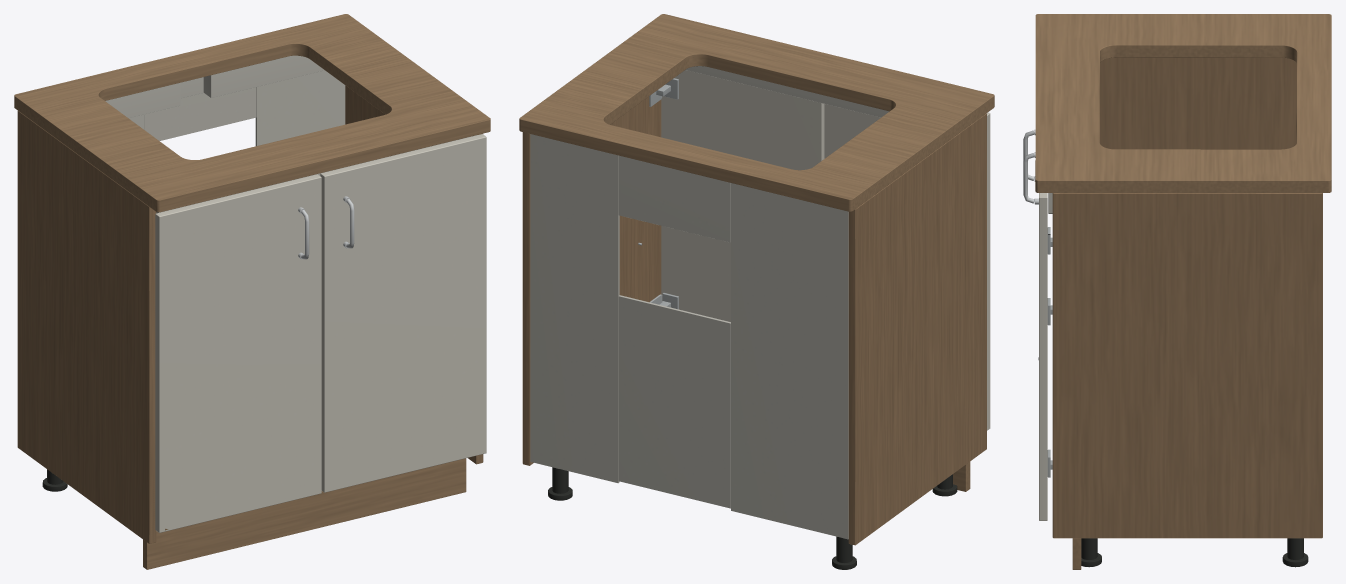
Rendered from KitchenCabinet_LOD0.fbx.
3 views of the same model, side by side, from view 1: azimuth 30°, elevation 25°; view 2: azimuth 150°, elevation 25°; view 3: azimuth 270°, elevation 25° (orthographic). The views are drawn at different scales.
Parts seen in each view (by area): view 1: Body_LOD0, Door_Left_LOD0, Door_Right_LOD0; view 2: Body_LOD0, Door_Right_LOD0, Door_Left_LOD0; view 3: Body_LOD0, Door_Right_LOD0.
Part boxes in pixels (<box>): Body_LOD0: <box>14,14,490,569</box>; Door_Left_LOD0: <box>155,174,321,532</box>; Door_Right_LOD0: <box>320,134,486,492</box>; Body_LOD0: <box>519,14,994,569</box>; Door_Right_LOD0: <box>656,70,824,321</box>; Door_Left_LOD0: <box>824,104,990,430</box>; Body_LOD0: <box>1035,14,1331,569</box>; Door_Right_LOD0: <box>1023,152,1052,520</box>.
Size of the model in its own units: 0.8 by 0.88 by 0.6245.
